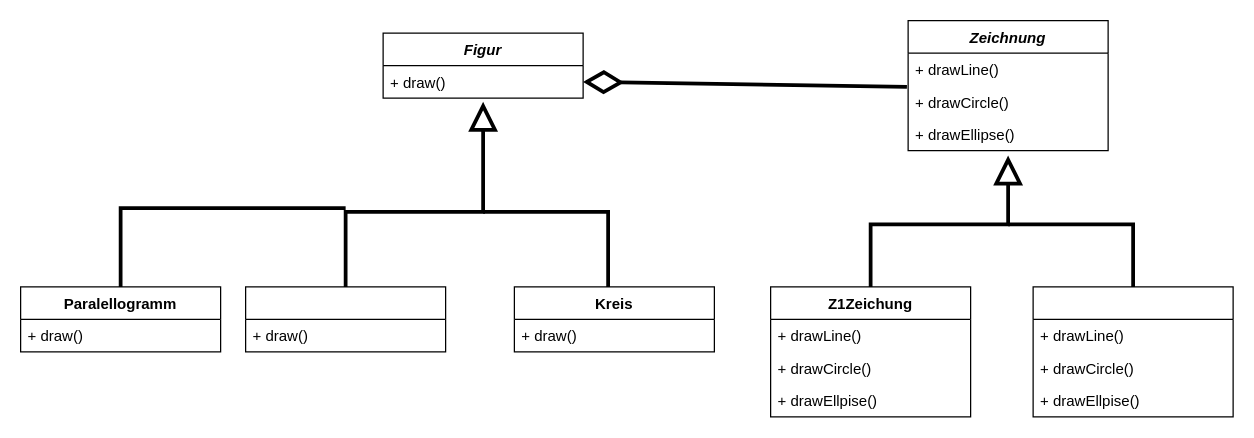
Image size: 1254x438. Some labels were removed from this diagram. The shapes that lost their labels are listed below. From the top down, each one's box as (x1, y1, x2, y2) in pixels, then its label:
(244, 286, 446, 352): Rechteck
(1032, 286, 1233, 417): Z2Zeichung
